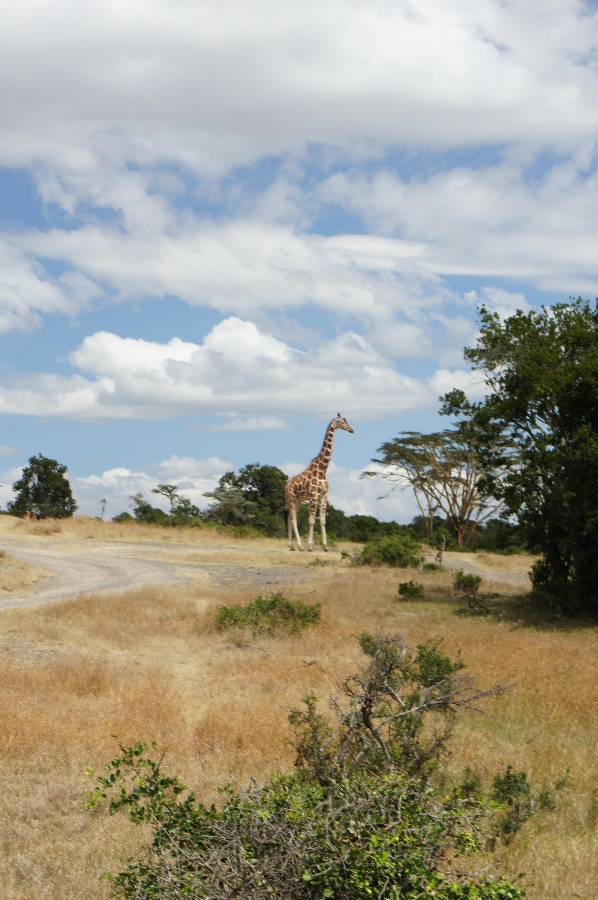giraffe: (278, 409, 360, 555)
